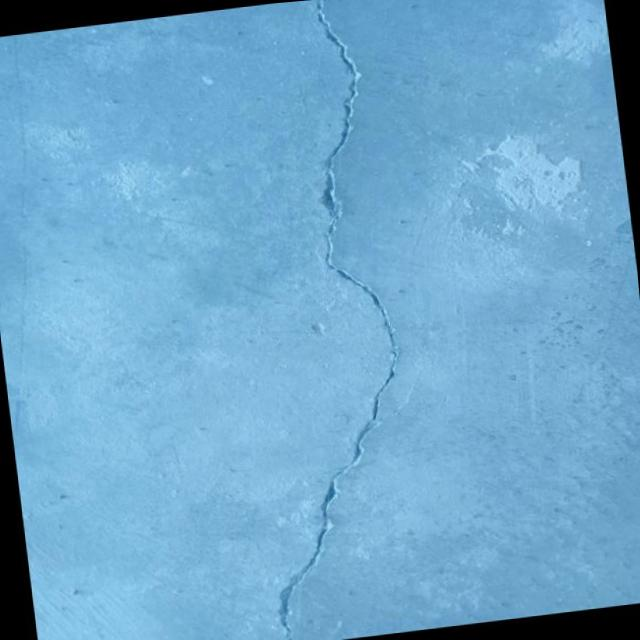crack: (202, 0, 431, 640)
